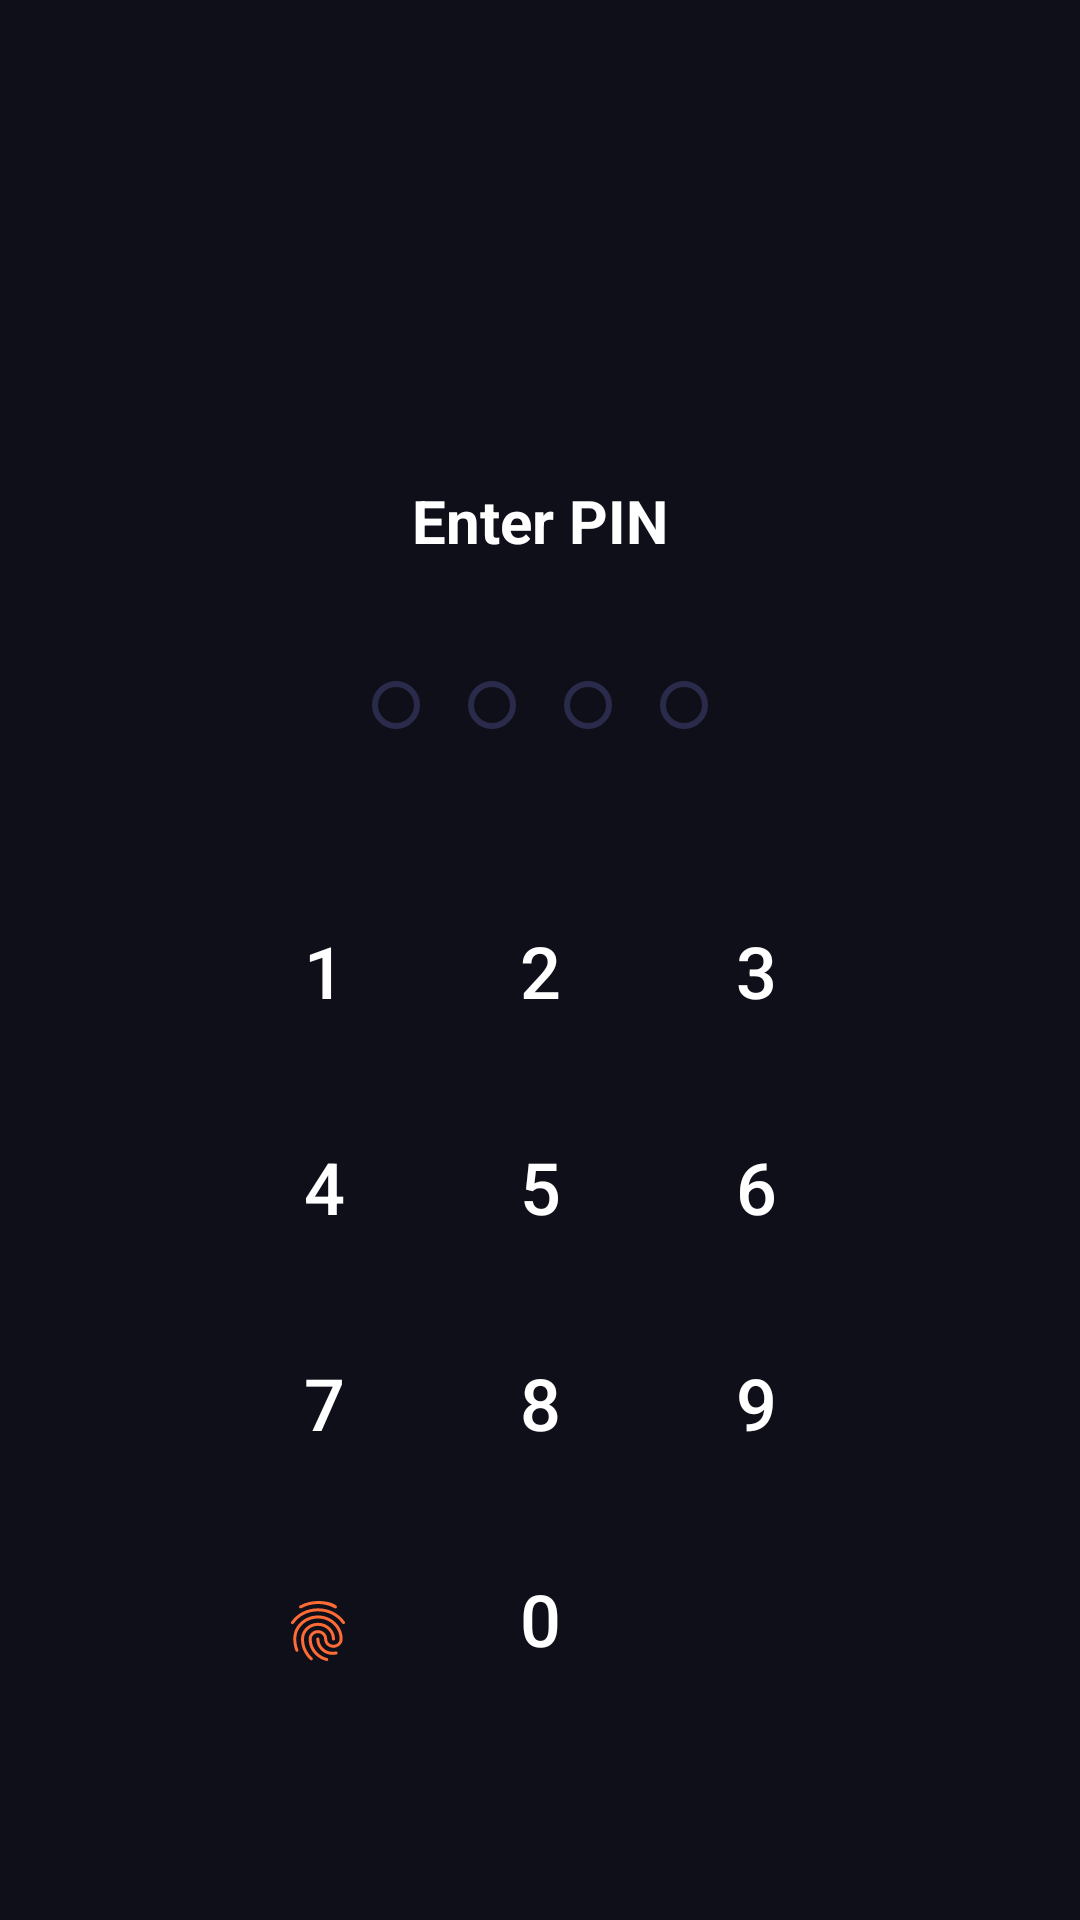

Icons on this 1080px×1920px Android screen, each with its box as (x1, y1, x2, y2):
fingerprint: (291, 1601, 345, 1661)
pin dot: (372, 681, 420, 729), (468, 681, 516, 729), (564, 681, 612, 729), (660, 681, 708, 729)
